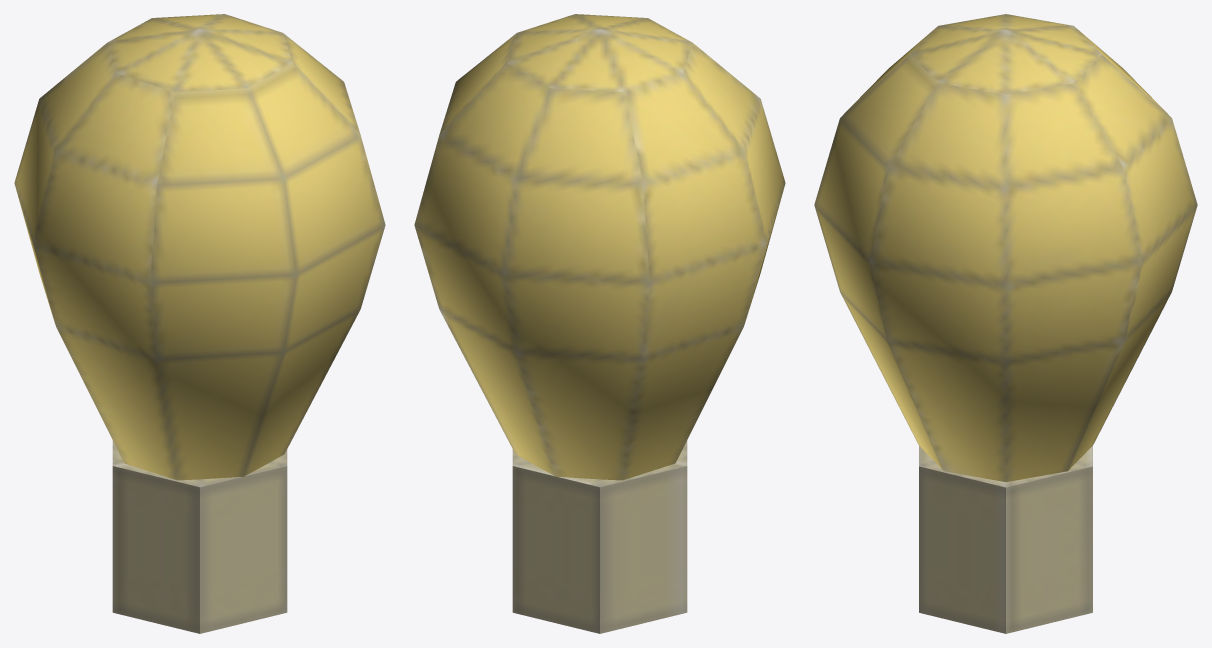
Rendered from other_lightbulb.dae.
The picture shows the model from 3 angles, left to right: view 1: azimuth 30°, elevation 25°; view 2: azimuth 150°, elevation 25°; view 3: azimuth 270°, elevation 25°; orthographic projection.
Parts seen in each view (by area): view 1: bulb, socket; view 2: bulb, socket; view 3: bulb, socket.
Part boxes in pixels (x1,y1,x2,y2): bulb: (14, 14, 385, 480); socket: (112, 440, 287, 633); bulb: (414, 14, 785, 480); socket: (512, 440, 687, 633); bulb: (814, 14, 1197, 481); socket: (919, 446, 1092, 633).
Size of what is drawn, in the model's own units: 0.0972 by 0.1614 by 0.0972.
2 materials, 2 textured.
